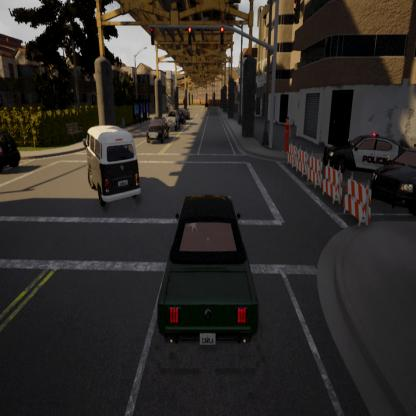Cars: (149, 179, 265, 359), (78, 116, 144, 228), (316, 114, 405, 176), (0, 115, 29, 188), (145, 112, 176, 155), (163, 108, 184, 138), (178, 98, 194, 129)
